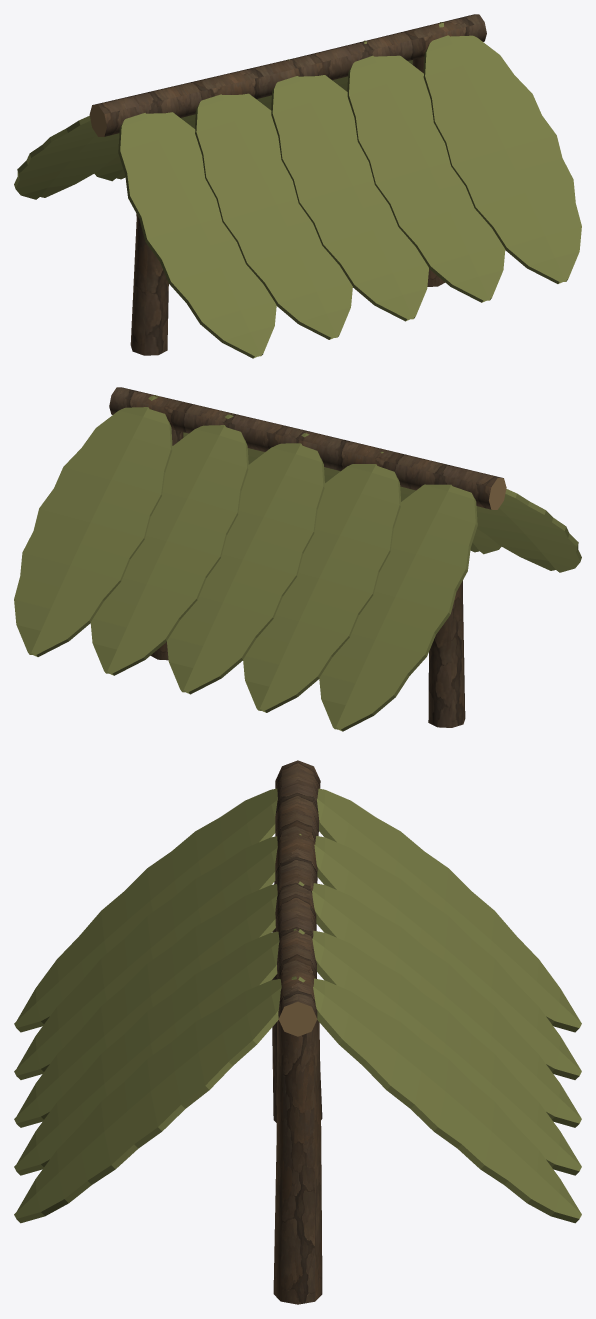
3 renders of one model, top to bottom at view 1: azimuth 30°, elevation 25°; view 2: azimuth 150°, elevation 25°; view 3: azimuth 270°, elevation 25°, orthographic. The views are drawn at different scales.
Visible parts, largest first — view 1: Shelter fork; view 2: Shelter fork; view 3: Shelter fork.
Boxes of the visible parts, x1,y1,x2,y2 form: Shelter fork: (14, 14, 581, 358); Shelter fork: (14, 387, 581, 731); Shelter fork: (14, 760, 581, 1304).
Size of the model in its own units: 3.26 by 1.92 by 3.02.
Materials: 3 (1 with a texture image).
